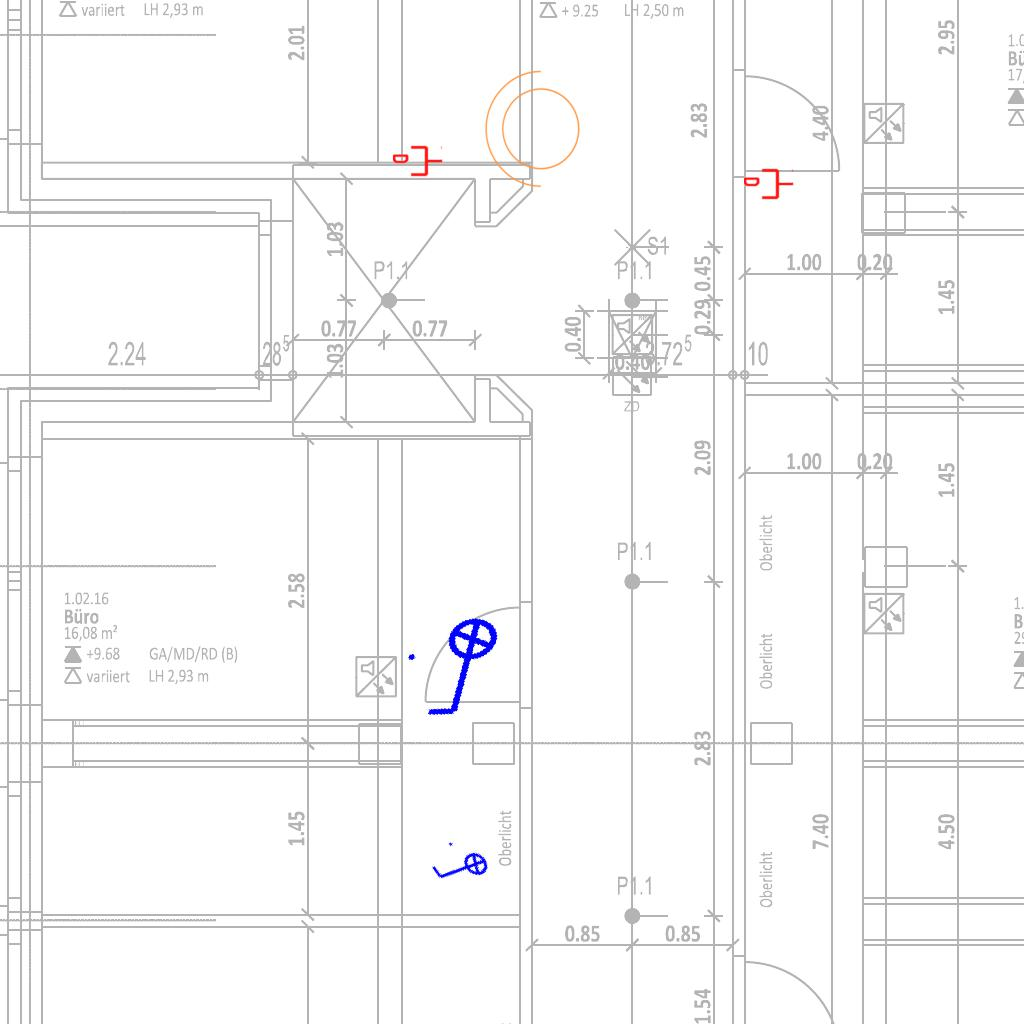Ausschalter_beleuchtet: (396, 606, 532, 732), (424, 832, 498, 906)
Datenanschluss_einfach: (393, 144, 443, 178), (744, 167, 794, 201)
Scheinwerfer_fuer_Alarmbeleuchtung: (480, 66, 592, 198)
